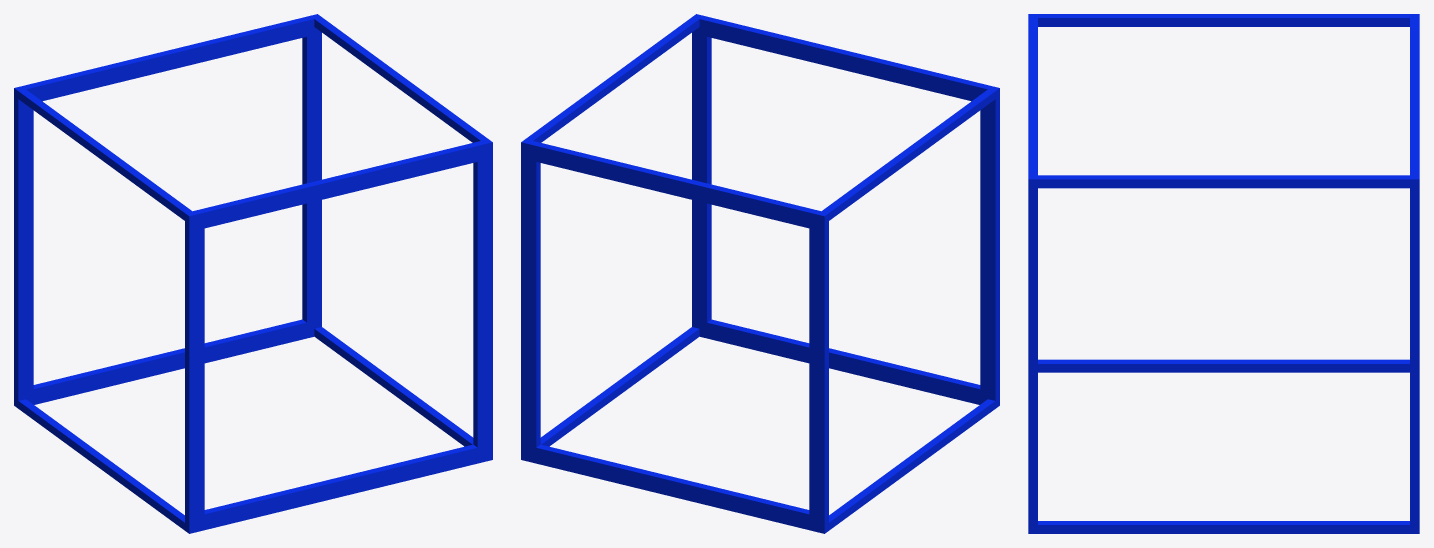
Rendered from BlueBlockFrame.gltf.
3 renders of one model, left to right at view 1: azimuth 30°, elevation 25°; view 2: azimuth 150°, elevation 25°; view 3: azimuth 270°, elevation 25°, orthographic. The views are drawn at different scales.
Parts seen in each view (by area): view 1: 立方体; view 2: 立方体; view 3: 立方体.
Part boxes in pixels (x1=…): 立方体: x1=14, y1=14, x2=492, y2=533; 立方体: x1=521, y1=14, x2=999, y2=533; 立方体: x1=1028, y1=14, x2=1419, y2=533.
Size of the model in its own units: 2 by 2 by 2.
